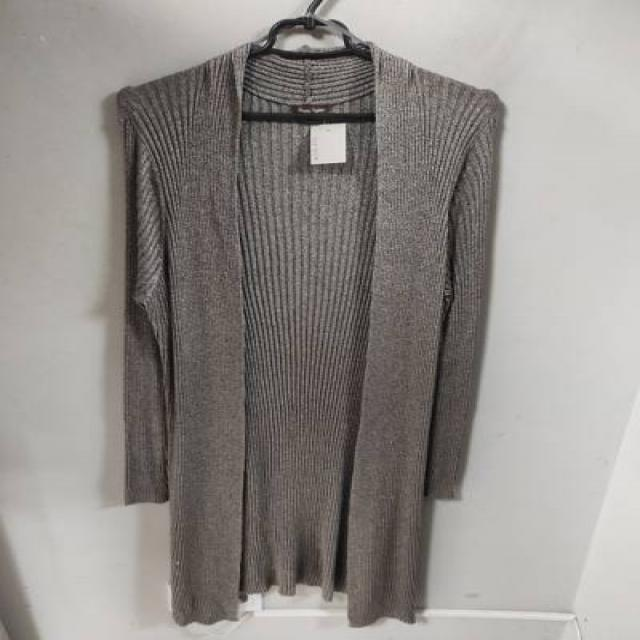Clothes -Biodegradable-: (121, 47, 503, 625)
